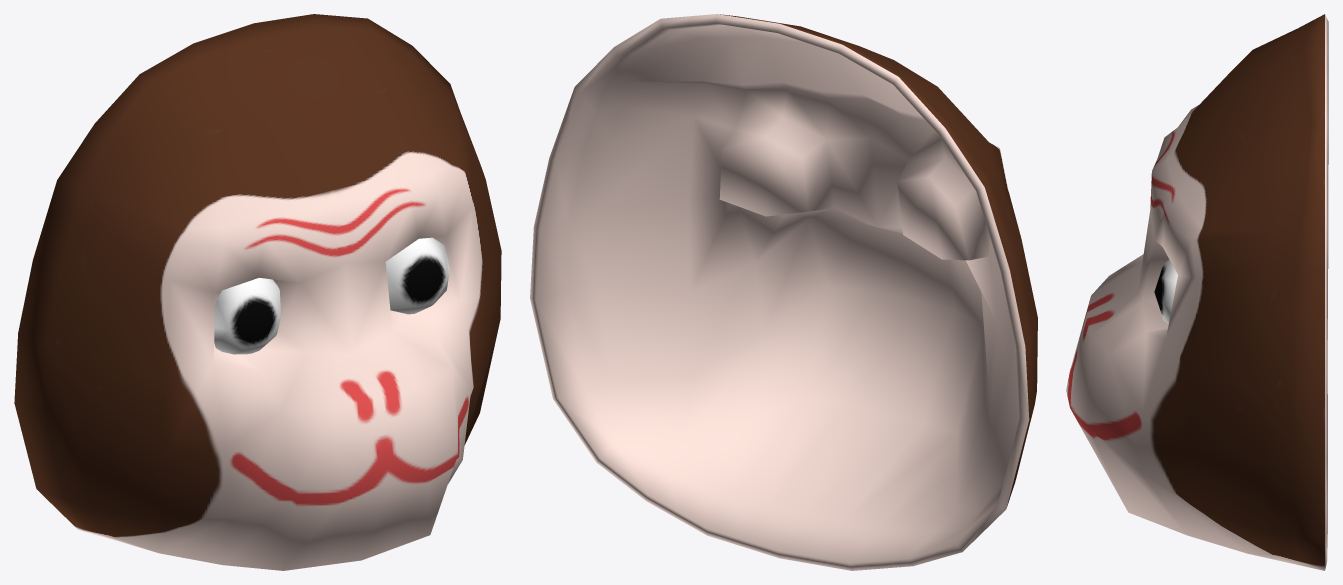
Rendered from Monkey_1.fbx.
3 renders of one model, left to right at view 1: azimuth 30°, elevation 25°; view 2: azimuth 150°, elevation 25°; view 3: azimuth 270°, elevation 25°, orthographic. The views are drawn at different scales.
Parts seen in each view (by area): view 1: Monkey; view 2: Monkey; view 3: Monkey.
Part boxes in pixels (x1=…): Monkey: x1=14, y1=14, x2=501, y2=570; Monkey: x1=530, y1=14, x2=1037, y2=570; Monkey: x1=1066, y1=14, x2=1328, y2=570.
Size of the model in its own units: 59.68 by 61.07 by 29.74.
1 material, 1 textured.
